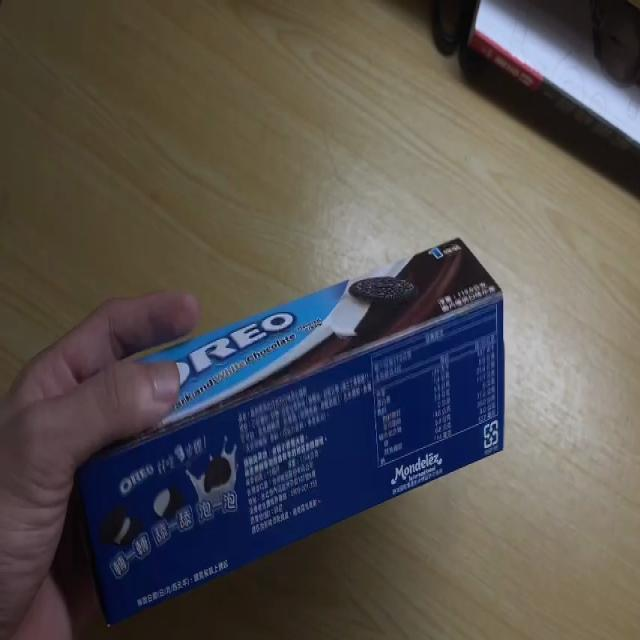Oreo: (82, 236, 505, 631)
